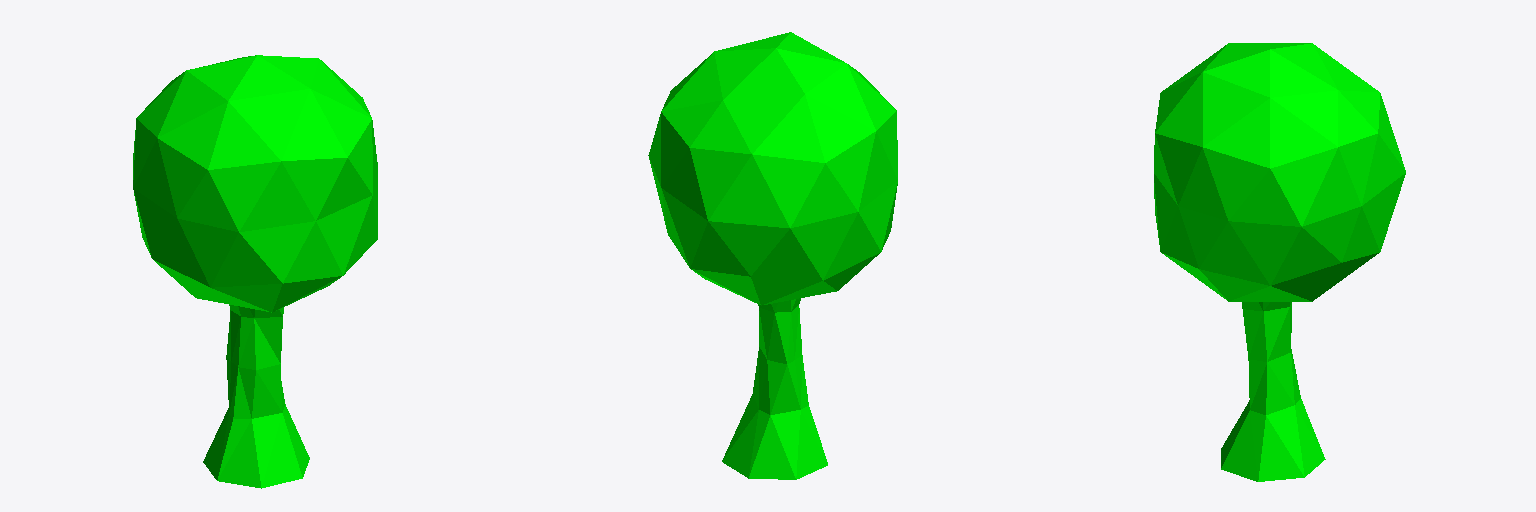
The model's file is tree.obj.
3 views of the same model, side by side, from view 1: azimuth 30°, elevation 25°; view 2: azimuth 150°, elevation 25°; view 3: azimuth 270°, elevation 25° (orthographic).
Parts seen in each view (by area): view 1: LowPolyBeerGarden_mergedObject.001; view 2: LowPolyBeerGarden_mergedObject.001; view 3: LowPolyBeerGarden_mergedObject.001.
Part boxes in pixels (x1,y1,x2,y2): LowPolyBeerGarden_mergedObject.001: (133, 55, 377, 488); LowPolyBeerGarden_mergedObject.001: (648, 32, 897, 479); LowPolyBeerGarden_mergedObject.001: (1154, 43, 1405, 481).
Size of the model in its own units: 0.819 by 1.48 by 0.8254.